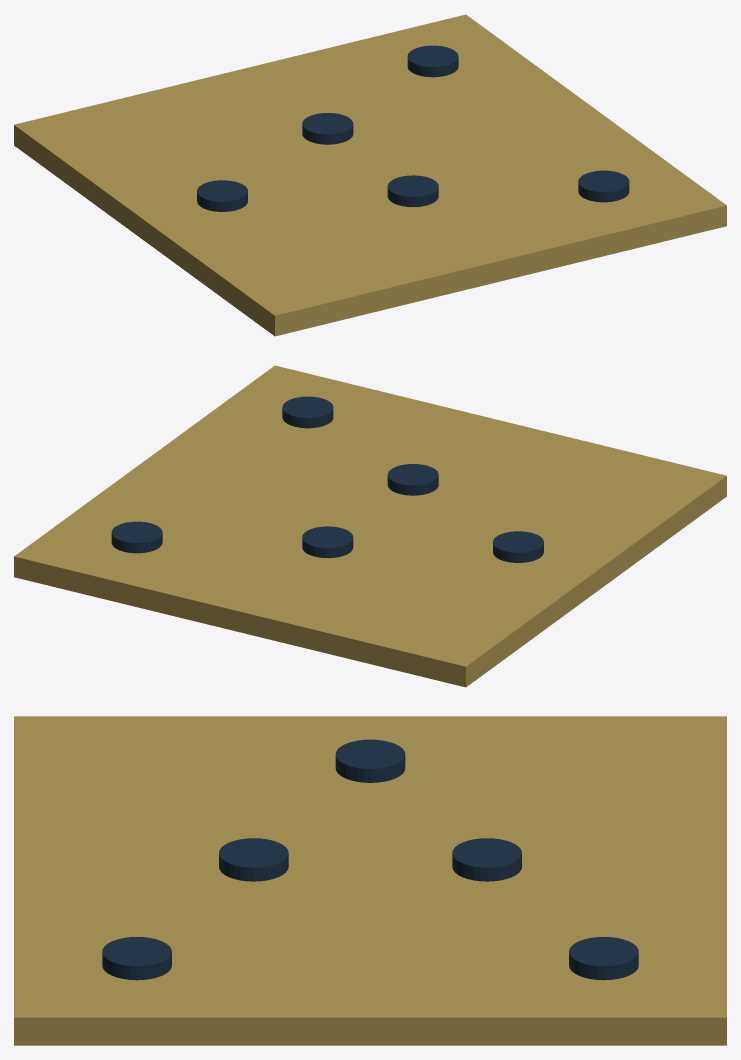
File: powerHoming.fbx
3 views of the same model, one above another, from view 1: azimuth 30°, elevation 25°; view 2: azimuth 150°, elevation 25°; view 3: azimuth 270°, elevation 25° (orthographic). The views are drawn at different scales.
Visible parts, largest first — view 1: Cylinder.049; view 2: Cylinder.049; view 3: Cylinder.049.
Boxes of the visible parts, x1,y1,x2,y2 form: Cylinder.049: (14, 14, 726, 336); Cylinder.049: (14, 365, 726, 687); Cylinder.049: (14, 716, 726, 1045).
Size of the model in its own units: 611 by 39.91 by 611.
